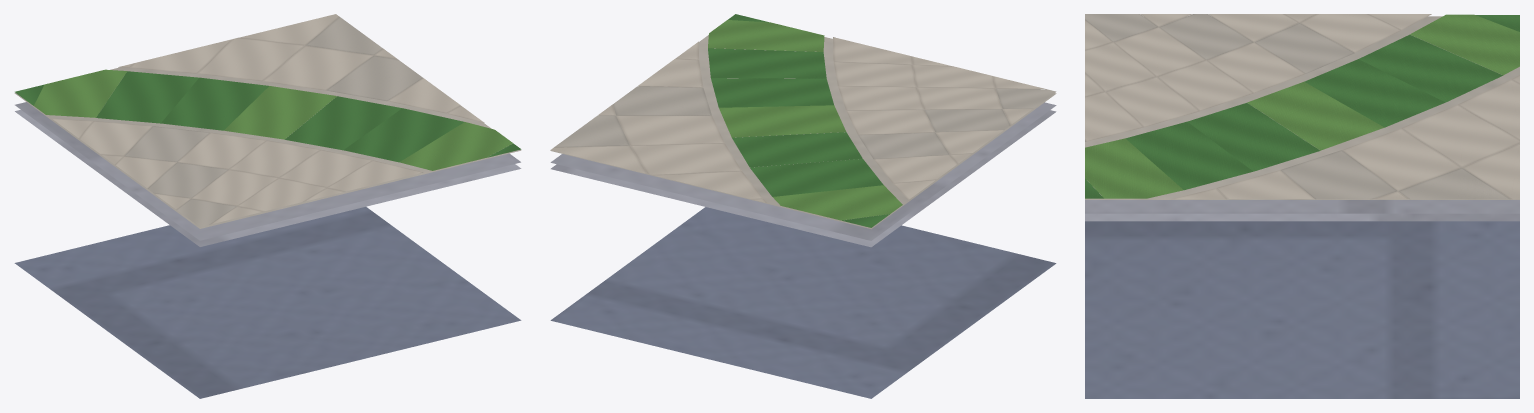
The model's file is high_crown_fracture_50.obj.
3 views of the same model, side by side, from view 1: azimuth 30°, elevation 25°; view 2: azimuth 150°, elevation 25°; view 3: azimuth 270°, elevation 25° (orthographic). The views are drawn at different scales.
Parts seen in each view (by area): view 1: ArenaFracture50; view 2: ArenaFracture50; view 3: ArenaFracture50.
Part boxes in pixels (<box>): ArenaFracture50: <box>14,14,521,398</box>; ArenaFracture50: <box>550,14,1056,398</box>; ArenaFracture50: <box>1085,14,1519,398</box>.
Size of the model in its own units: 10 by 5.11 by 10.
6 materials, 6 textured.
